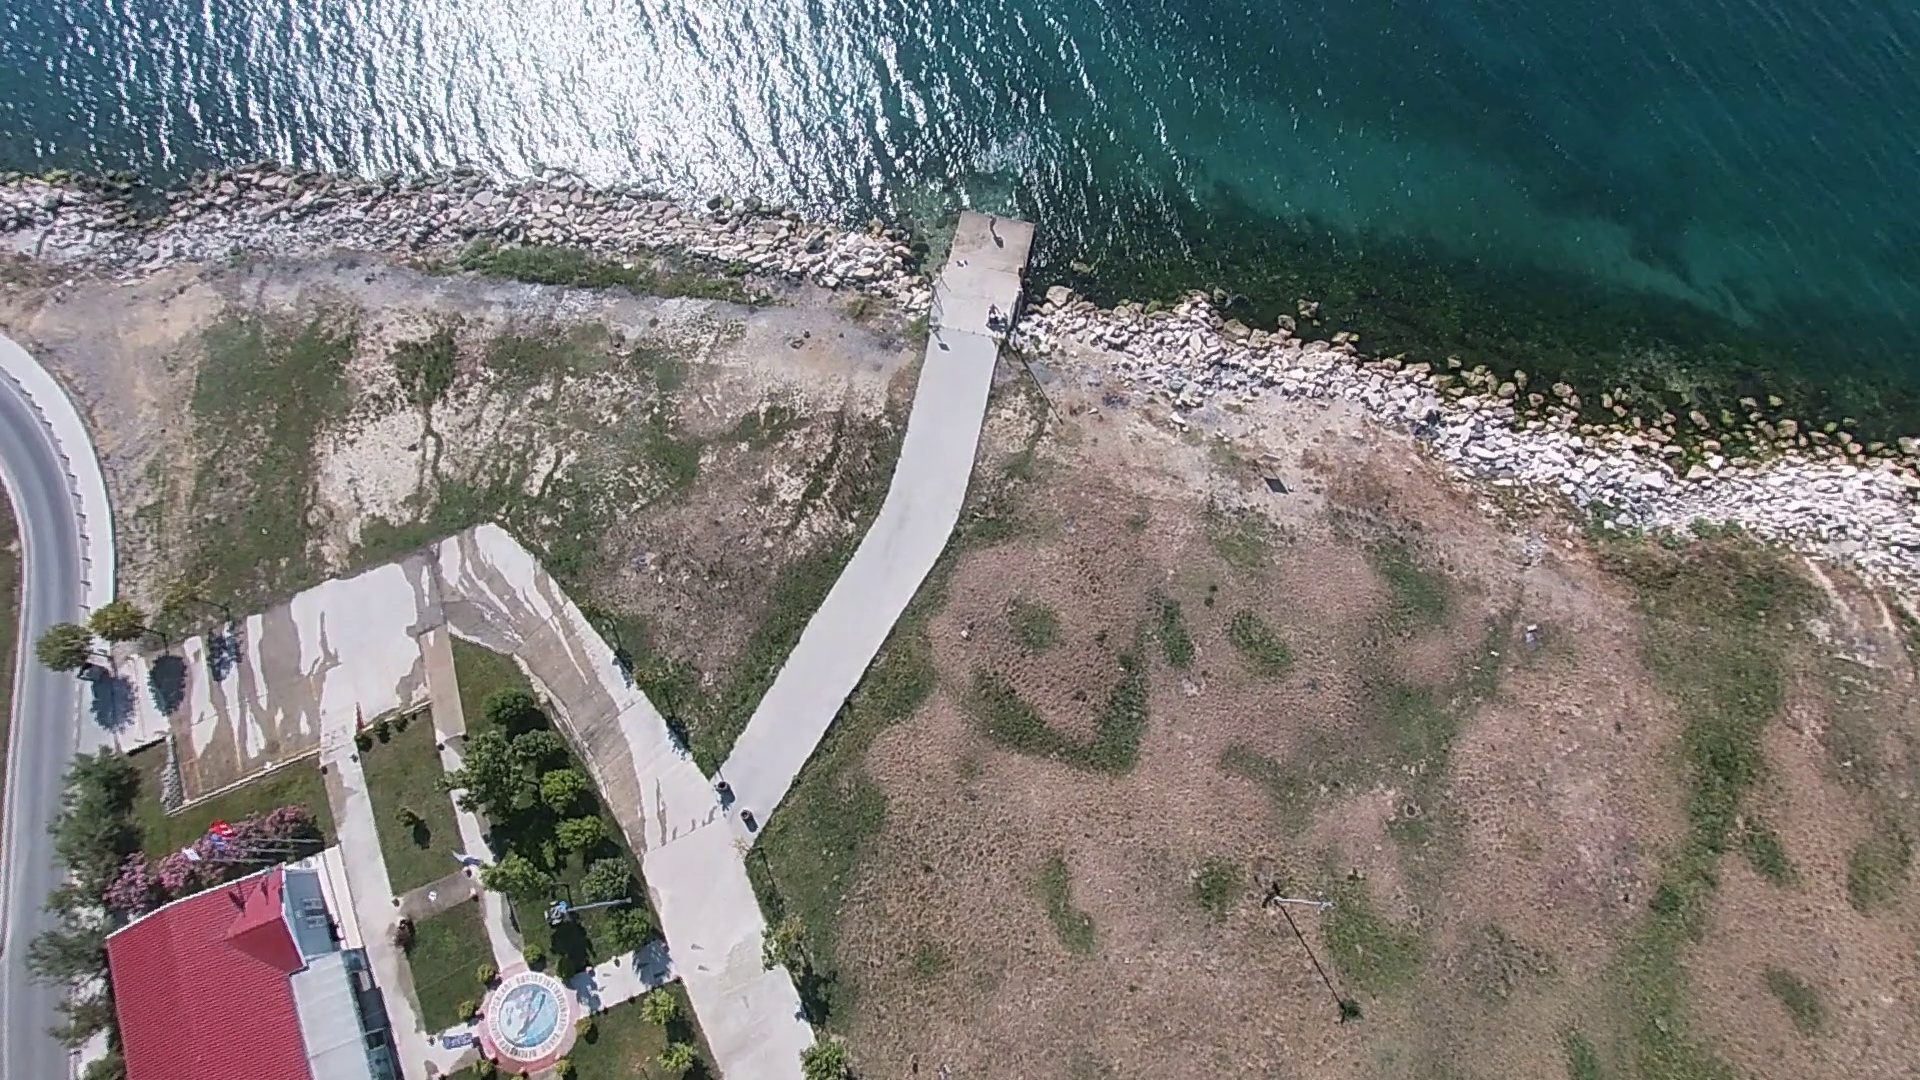insan: (986, 210, 1014, 247)
